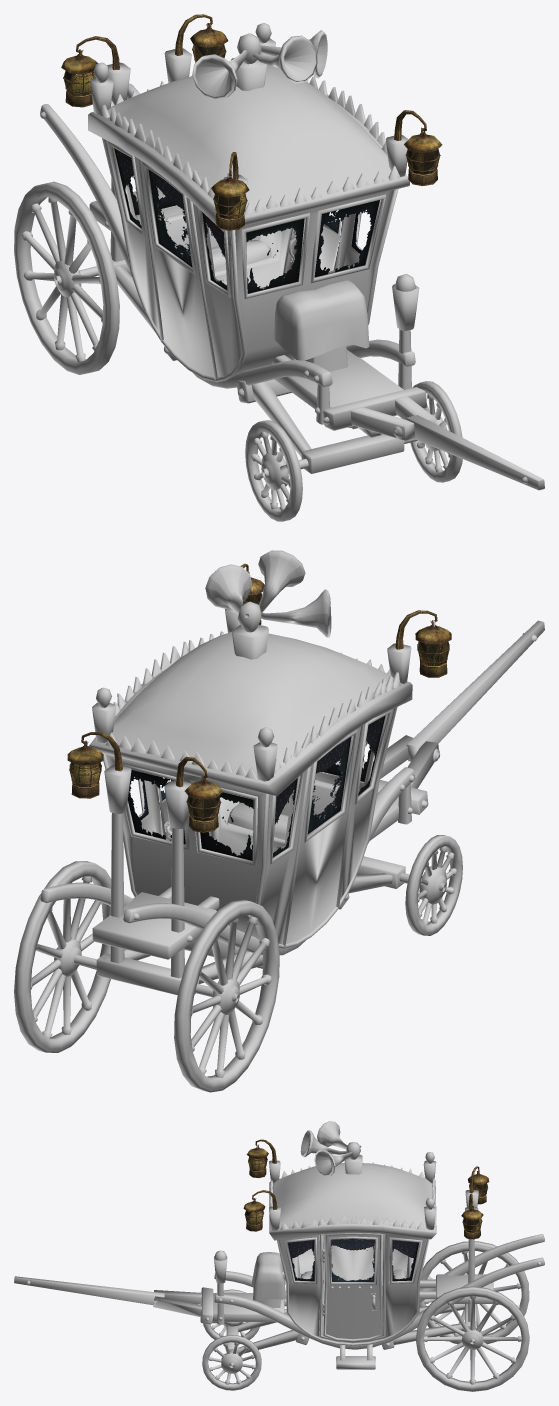
Rendered from Coach_v2.fbx.
3 renders of one model, top to bottom at view 1: azimuth 30°, elevation 25°; view 2: azimuth 150°, elevation 25°; view 3: azimuth 270°, elevation 25°, orthographic. The views are drawn at different scales.
Parts seen in each view (by area): view 1: coach_v2; view 2: coach_v2; view 3: coach_v2.
Part boxes in pixels (box(x1,y1,x2,y2)): coach_v2: box(14, 14, 544, 521); coach_v2: box(14, 550, 544, 1092); coach_v2: box(14, 1121, 544, 1391).
Bounding box in the file's own units: 241 × 426 × 858.
